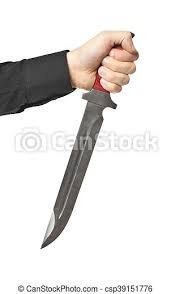knife: (39, 31, 134, 249)
